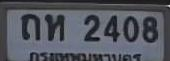0: (122, 15, 138, 41)
2: (83, 14, 99, 41)
4: (103, 14, 118, 41)
8: (142, 15, 157, 42)
A22: (20, 13, 40, 40)
A41: (44, 13, 64, 40)
